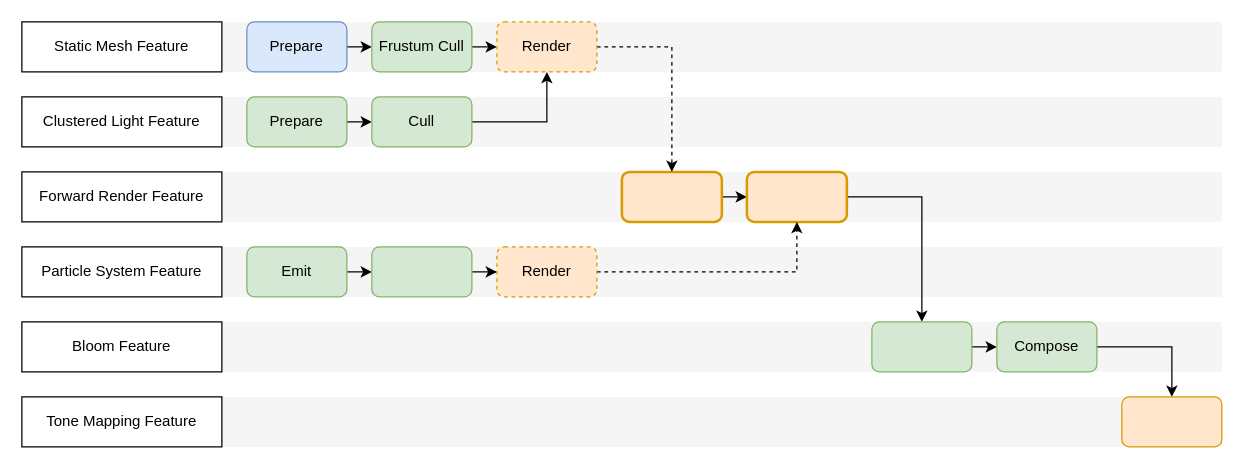
This 1244x469 diagram has some shape labels left out. Each missing label, with the centre of its shape:
"Bloom" belongs at (921,346).
"Forward Pass Opaque" belongs at (671,196).
"Forward Pass Transparent" belongs at (796,196).
"Tonemap" belongs at (1171,421).
"Update" belongs at (421,271).
